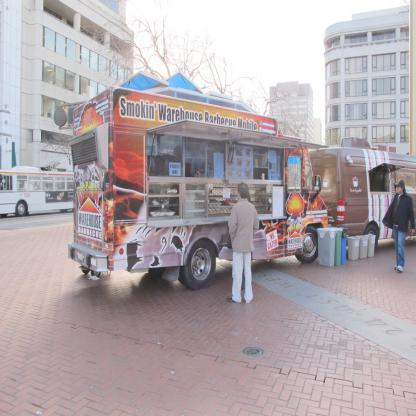Bus: (69, 87, 329, 287), (306, 136, 416, 244), (0, 165, 76, 215)
Truck: (64, 85, 330, 288), (307, 142, 386, 259)
